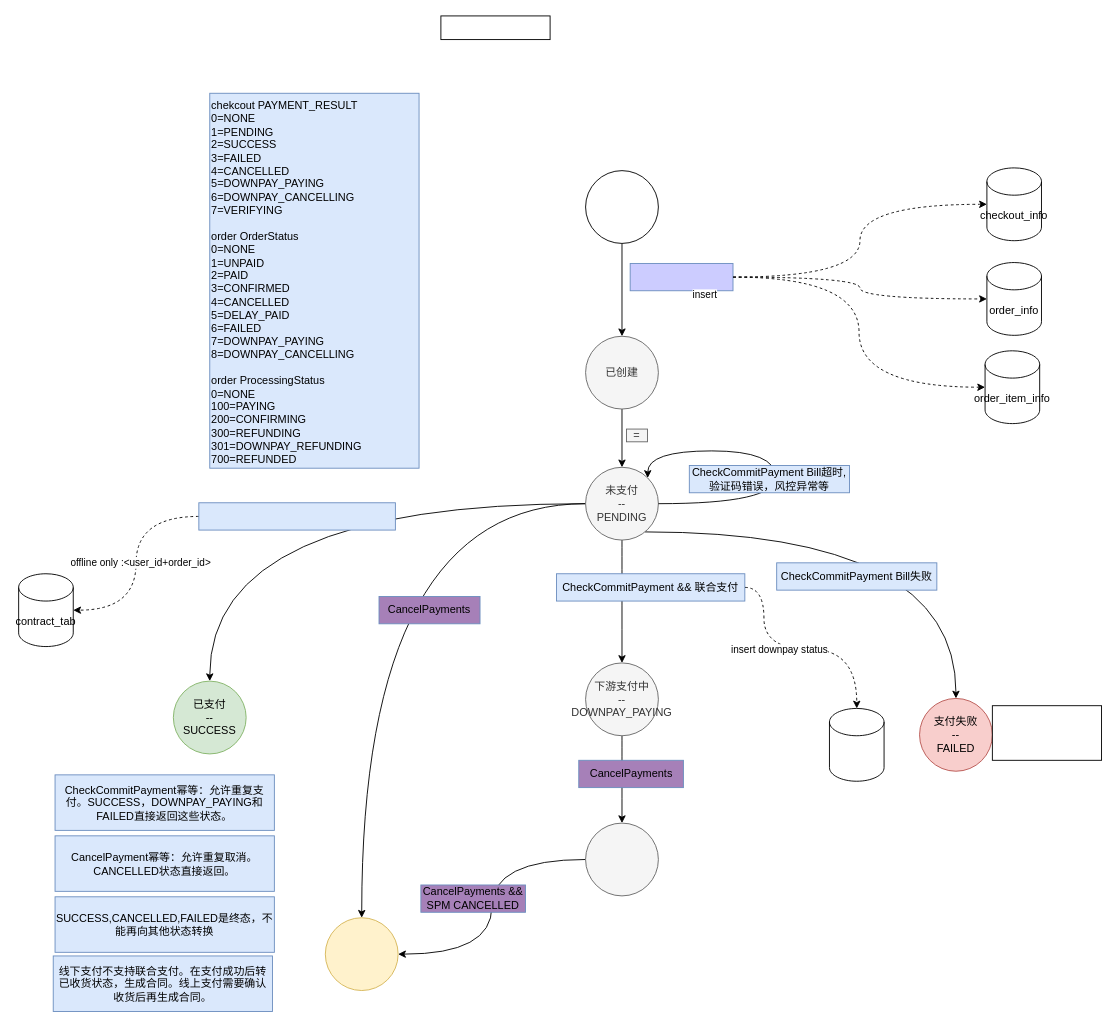
Some shapes in this 1117 by 1027 pixel diagram are drawn without their labels. Here are the shapes that lost their labels. From the top down, the centre of each, then its label:
the point at 495,27: payment_result
the point at 621,206: start
the point at 681,277: GeneratePayments
the point at 296,516: CheckCommitPayment && 非联合支付
the point at 856,744: checkout_downpay
the point at 1046,732: 余额不足 or 账户冻结 or 其他错误
the point at 621,859: 下游取消中 -- DOWNPAY_CANCELLING
the point at 361,954: 取消 -- CANCELLED
